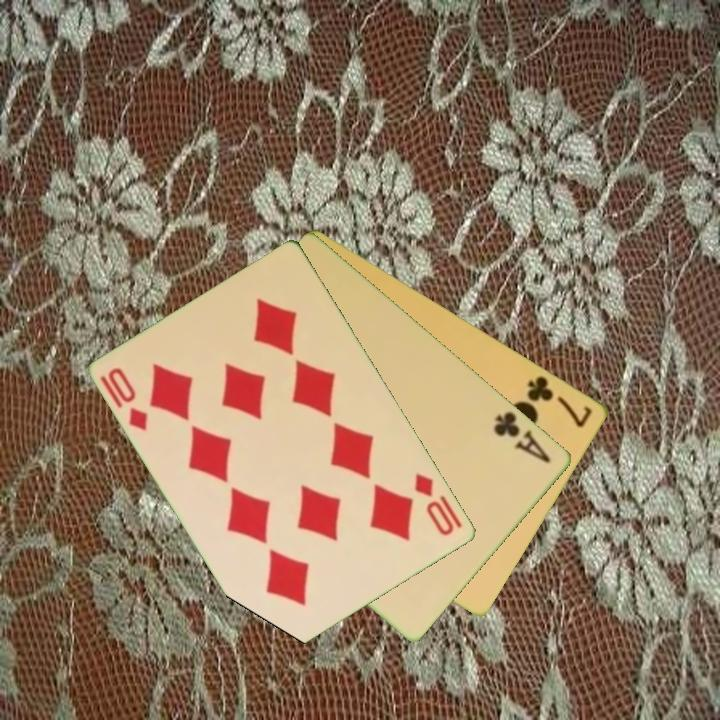10d: (97, 363, 152, 434), (411, 469, 458, 539)
7c: (524, 372, 596, 431)
Ac: (490, 407, 555, 466)
